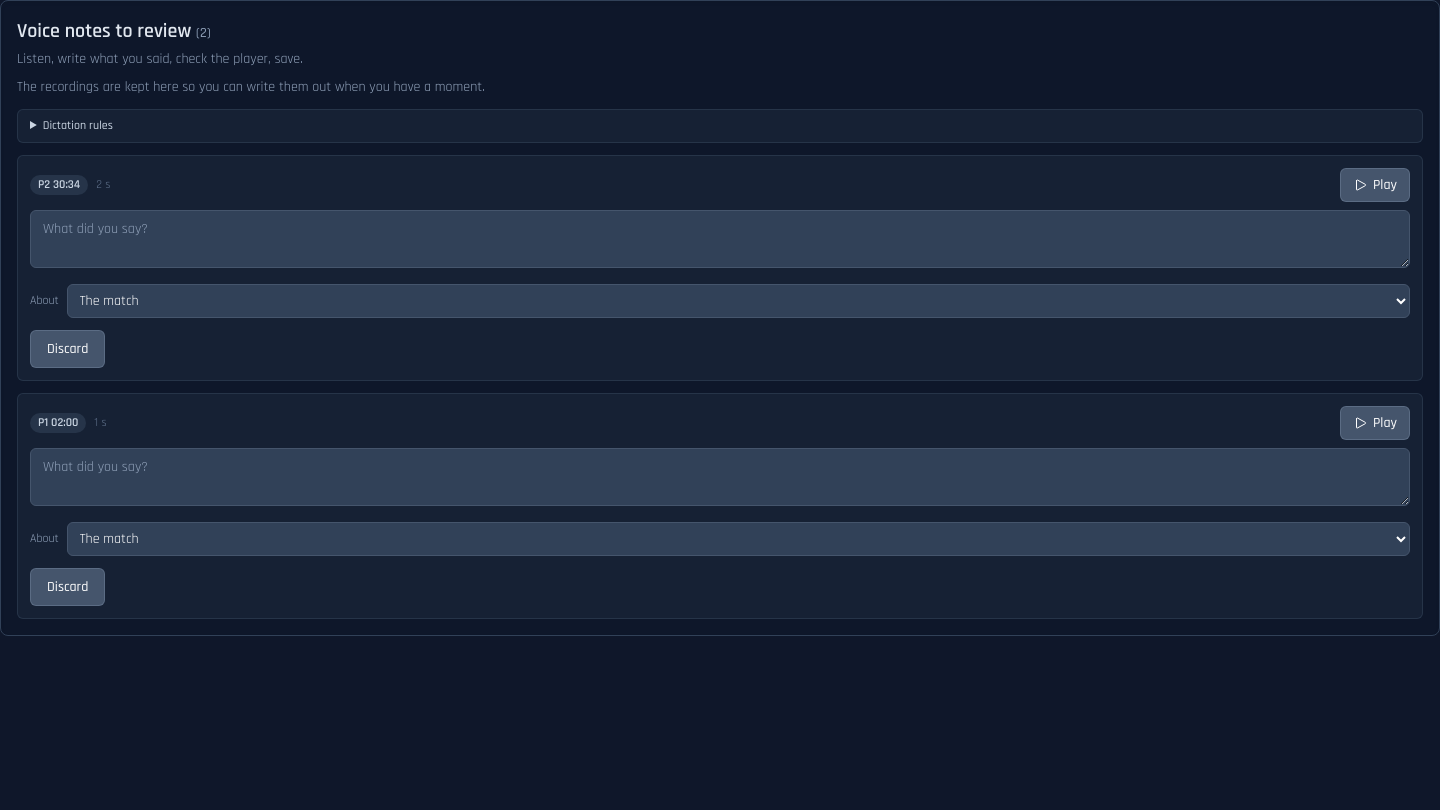
Scenario: DictationInbox › play loads the blob into an audio element; stop removes it
Step 1. Click the button "Play" in the row of "P2 30:34" → (1375, 185), box [1340,168,1410,202]
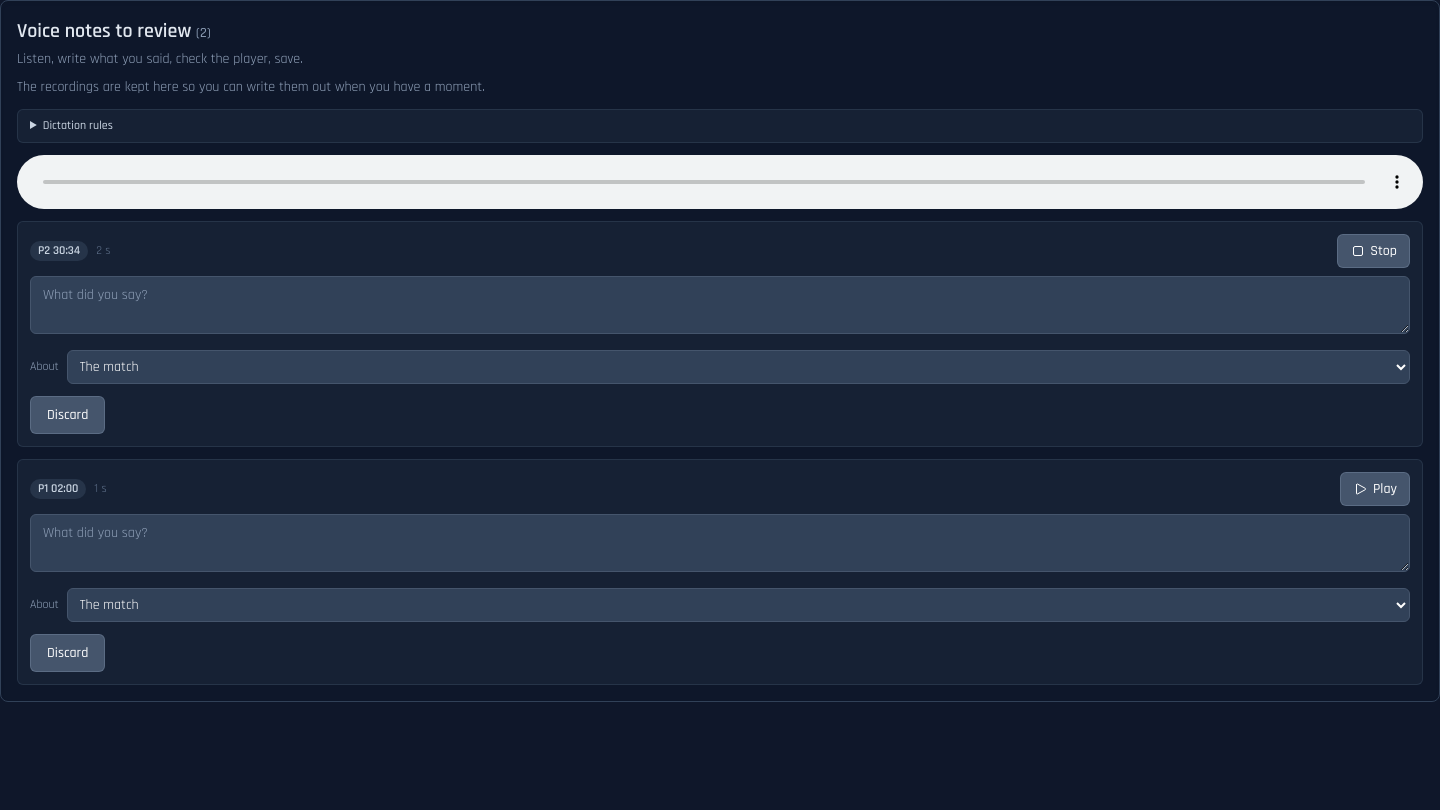
Step 2. Click the button "Stop" → (1374, 251), box [1337,234,1410,268]
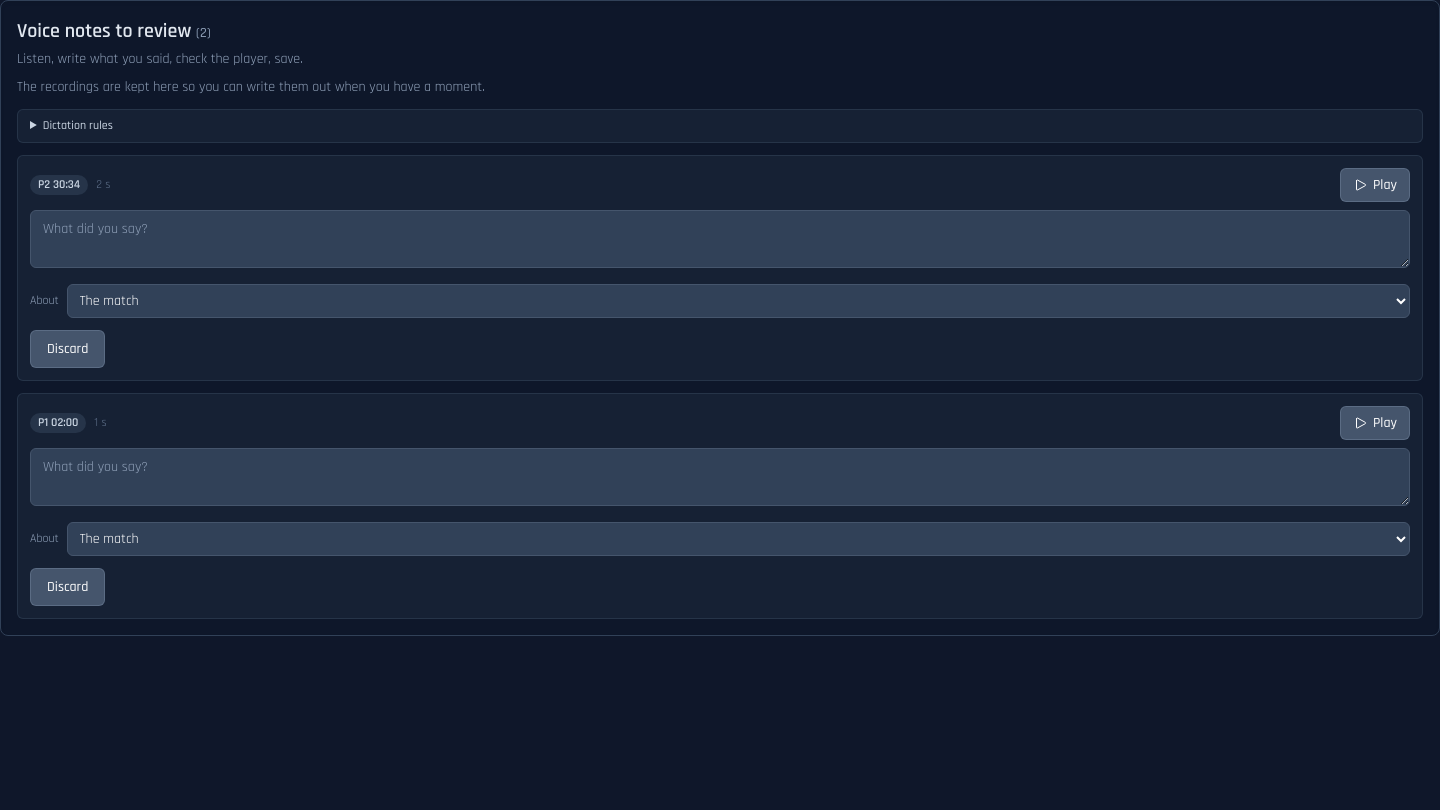
Result: the element with test id "dictation-audio" is gone
